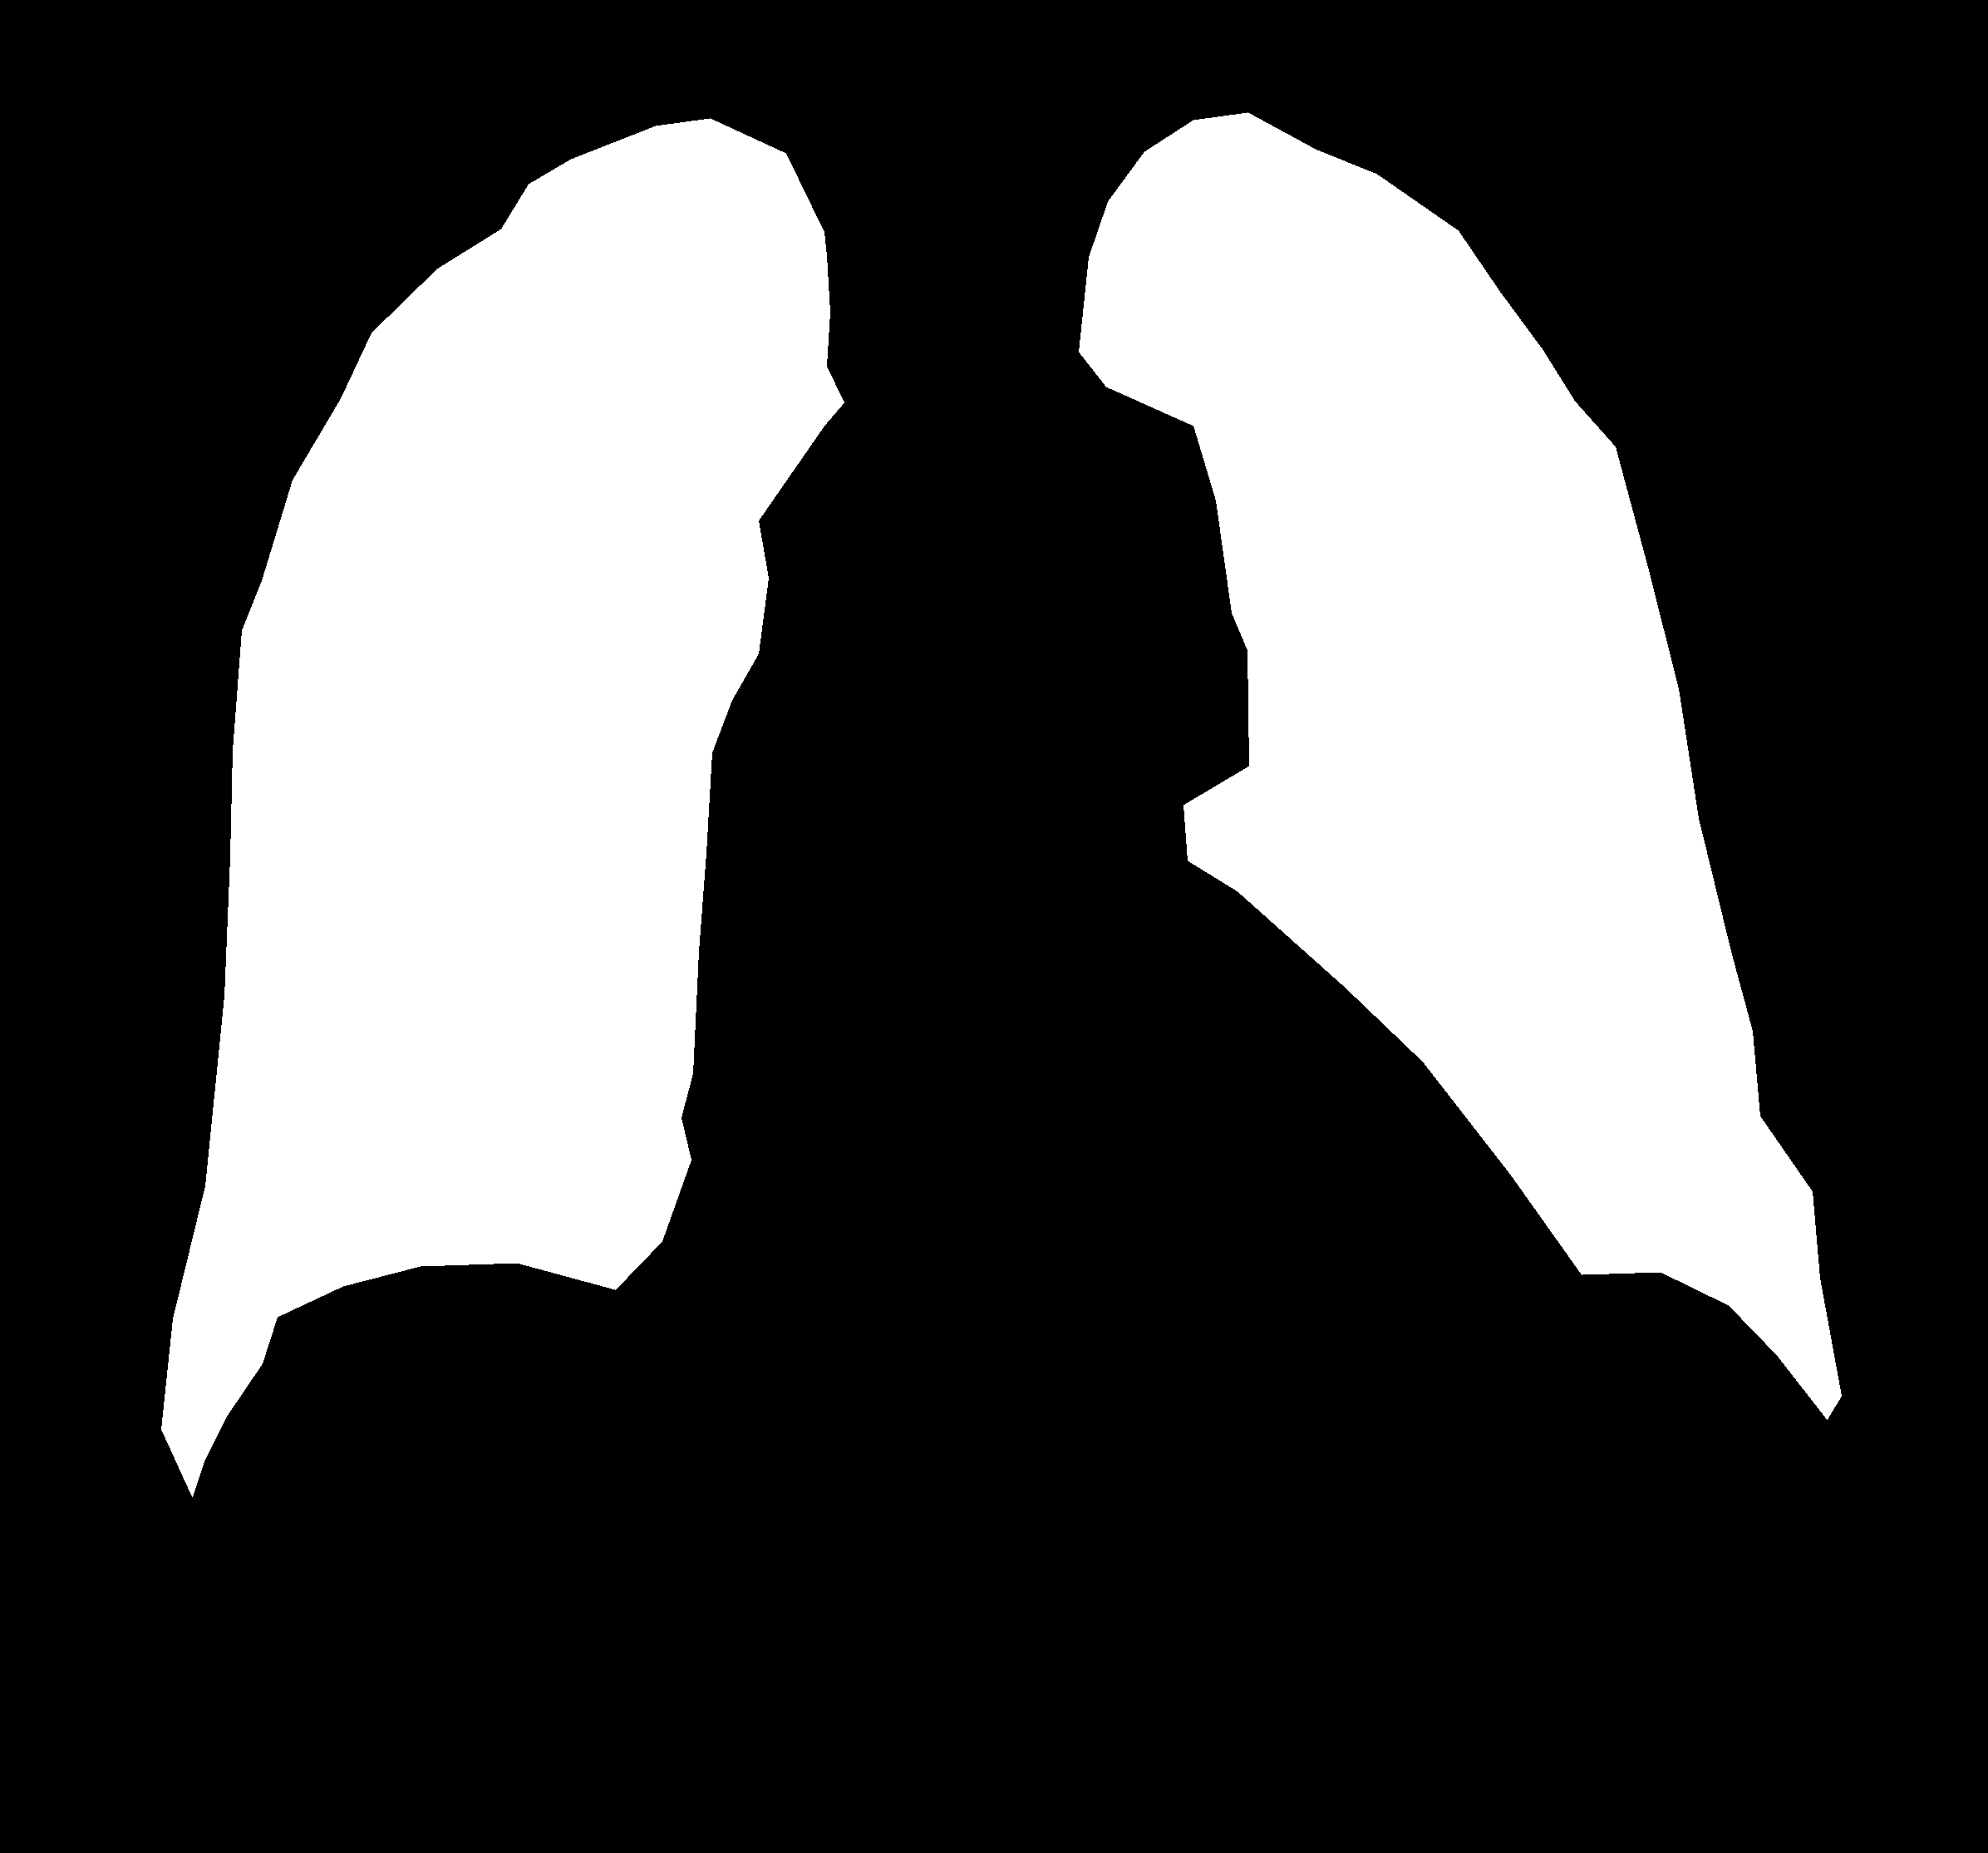heart: (632, 629, 1572, 1475)
left_lung: (162, 118, 844, 1496)
right_lung: (1079, 111, 1840, 1419)
